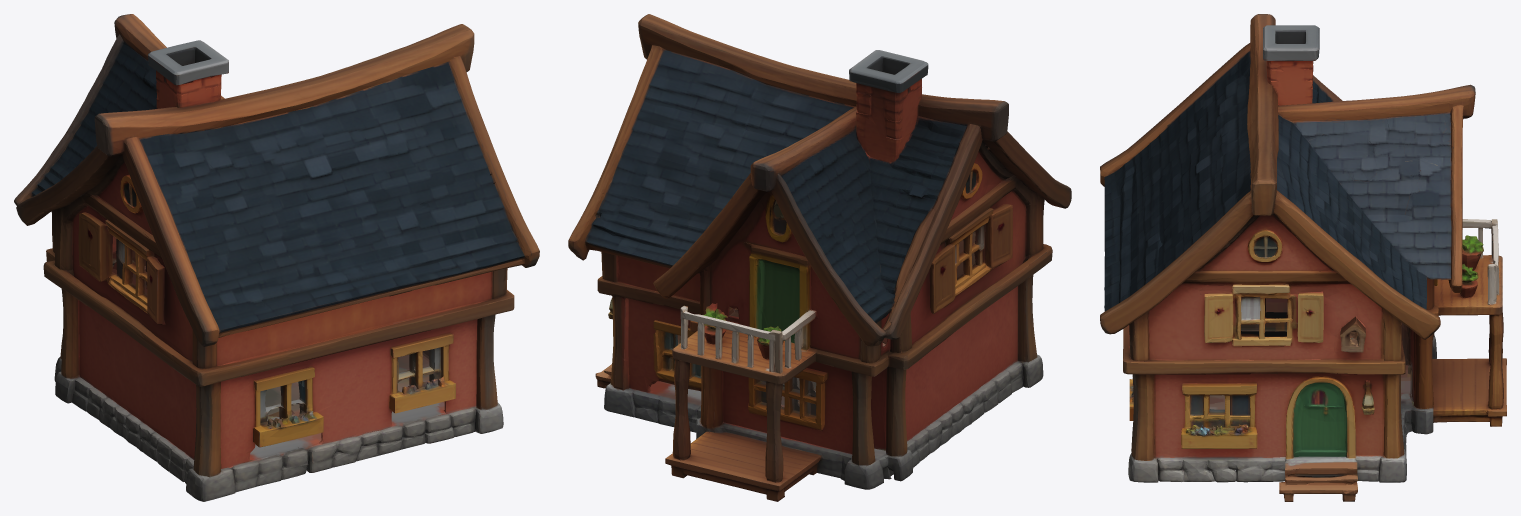
File: Haus_1_Fachwerk.glb
3 renders of one model, left to right at view 1: azimuth 30°, elevation 25°; view 2: azimuth 150°, elevation 25°; view 3: azimuth 270°, elevation 25°, orthographic. The views are drawn at different scales.
Parts seen in each view (by area): view 1: world; view 2: world; view 3: world.
Boxes of the visible parts, x1,y1,x2,y2 form: world: [14, 14, 539, 501]; world: [568, 14, 1071, 501]; world: [1100, 14, 1506, 501].
Size of the model in its own units: 0.9817 by 0.938 by 0.9989.
1 material, 1 textured.
